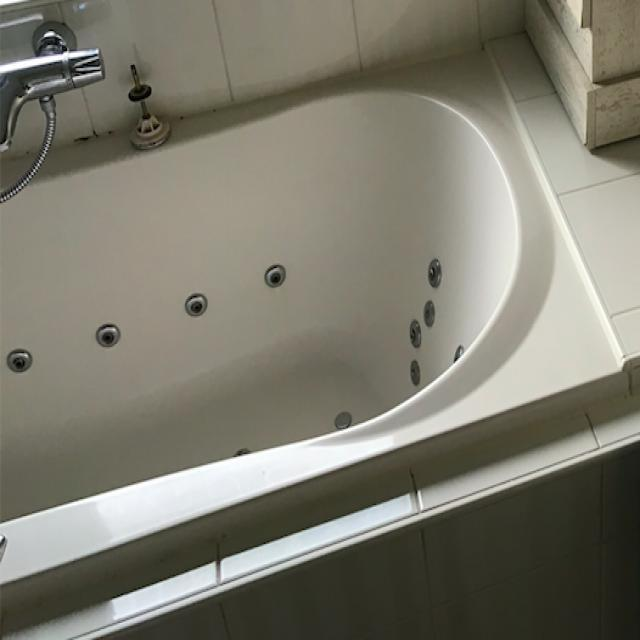bath: (0, 20, 633, 640)
